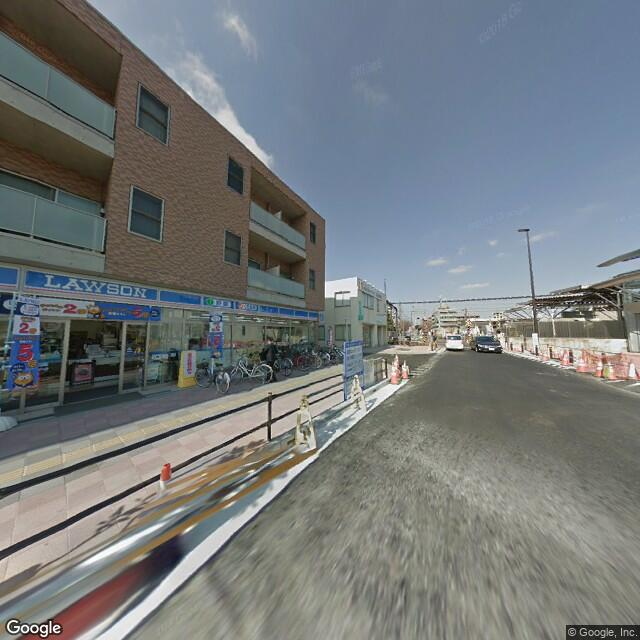lawson: (1, 260, 321, 327)
